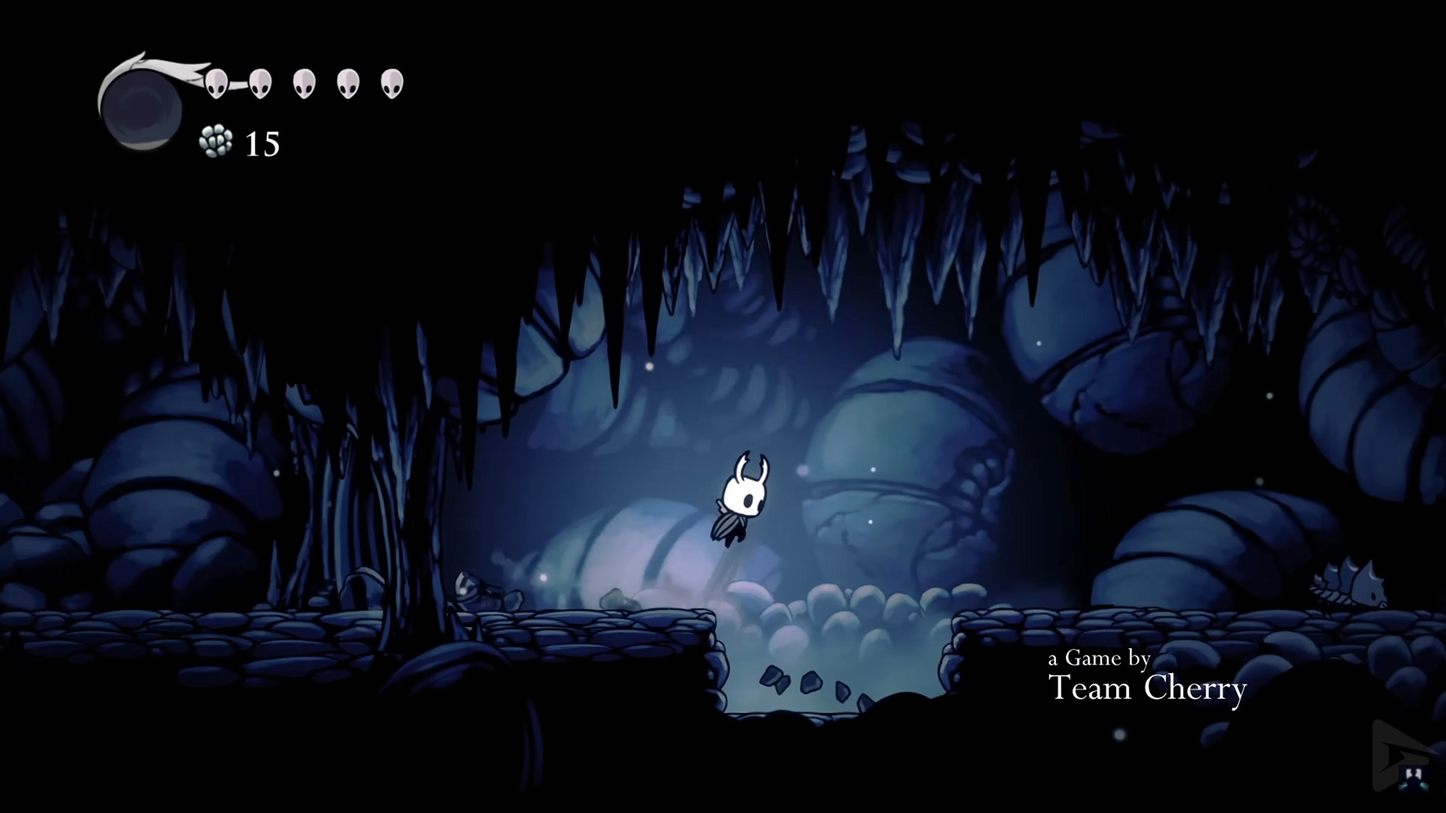HK: (709, 444, 772, 553)
